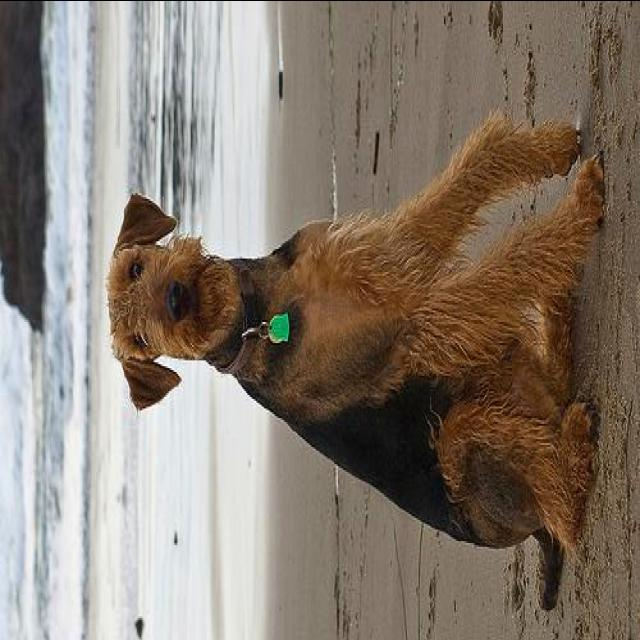airedale: (106, 111, 608, 610)
